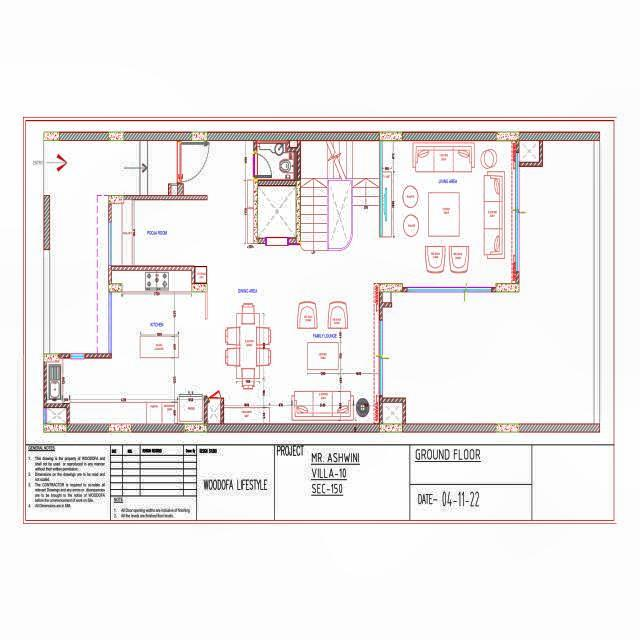room: (382, 141, 594, 422), (43, 141, 178, 353), (47, 269, 204, 423), (383, 142, 515, 283), (284, 283, 373, 423), (224, 282, 282, 421), (112, 202, 207, 265), (258, 187, 295, 236), (254, 142, 294, 178)
